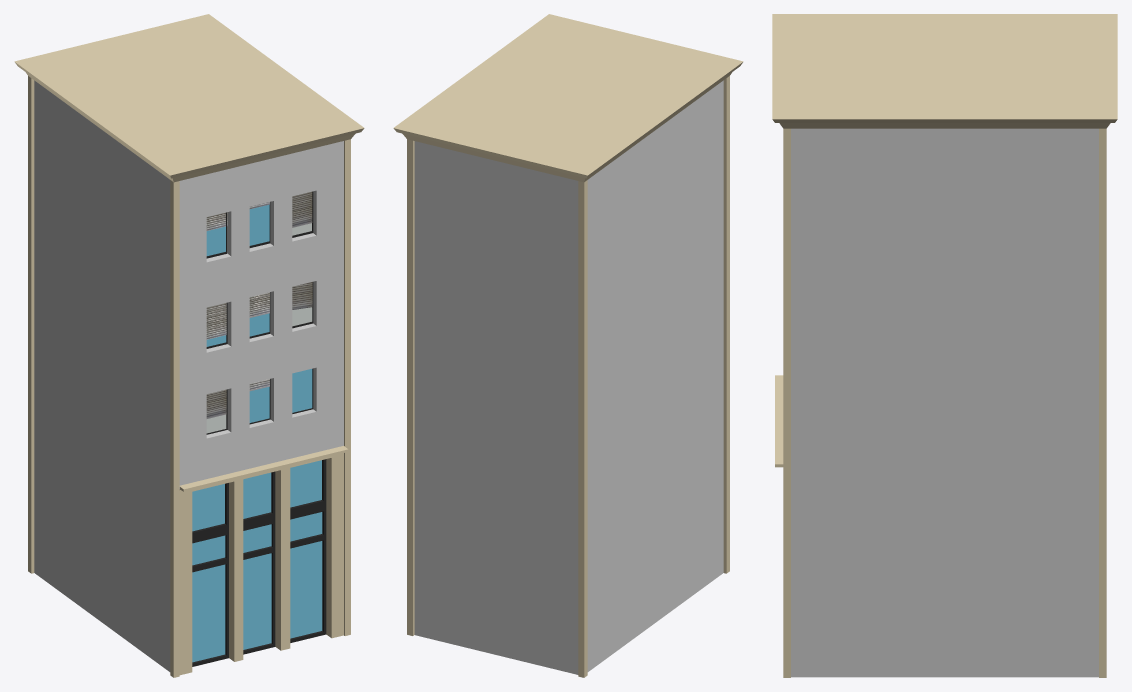
File: Bloc_07F.fbx
The picture shows the model from 3 angles, left to right: view 1: azimuth 30°, elevation 25°; view 2: azimuth 150°, elevation 25°; view 3: azimuth 270°, elevation 25°; orthographic projection. The views are drawn at different scales.
Parts seen in each view (by area): view 1: Bloc_07F; view 2: Bloc_07F; view 3: Bloc_07F.
Part boxes in pixels (left/top/right/bottom): Bloc_07F: left=14, top=14, right=364, bottom=677; Bloc_07F: left=393, top=14, right=743, bottom=677; Bloc_07F: left=772, top=14, right=1117, bottom=677.
Bounding box in the file's own units: 939 × 1688 × 676.
